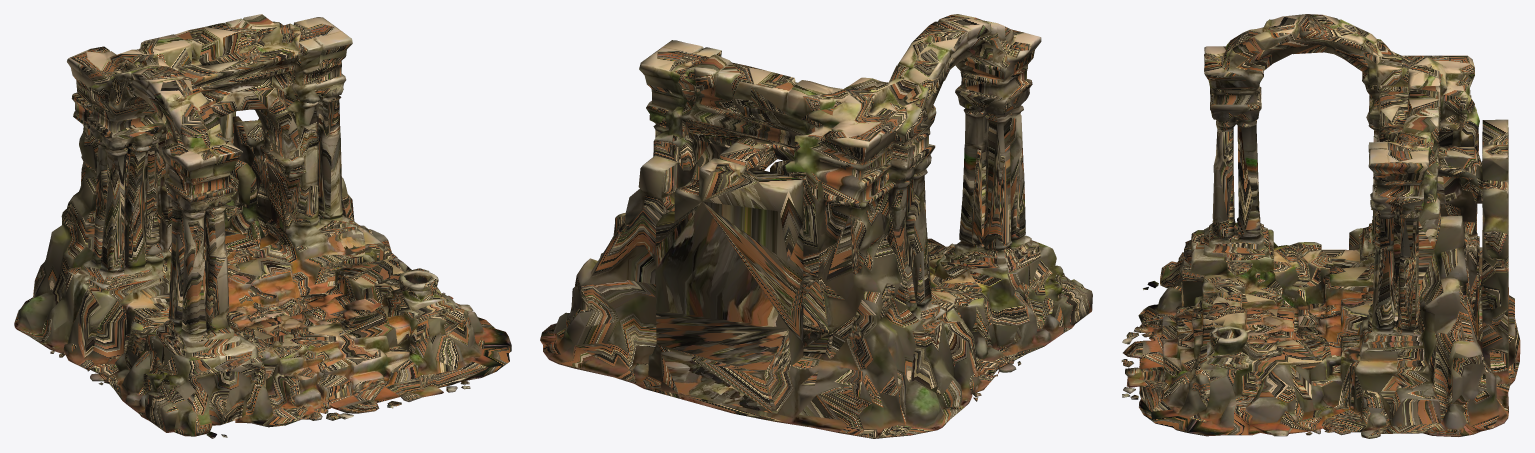
File: Desert_Ruins.glb
3 renders of one model, left to right at view 1: azimuth 30°, elevation 25°; view 2: azimuth 150°, elevation 25°; view 3: azimuth 270°, elevation 25°, orthographic. The views are drawn at different scales.
Parts seen in each view (by area): view 1: Desert_Ruins; view 2: Desert_Ruins; view 3: Desert_Ruins.
Part boxes in pixels (x1,y1,x2,y2): Desert_Ruins: (14,14,511,438); Desert_Ruins: (540,14,1092,438); Desert_Ruins: (1121,14,1520,438).
Bounding box in the file's own units: 1.92 × 1.46 × 1.89.
1 material, 1 textured.
